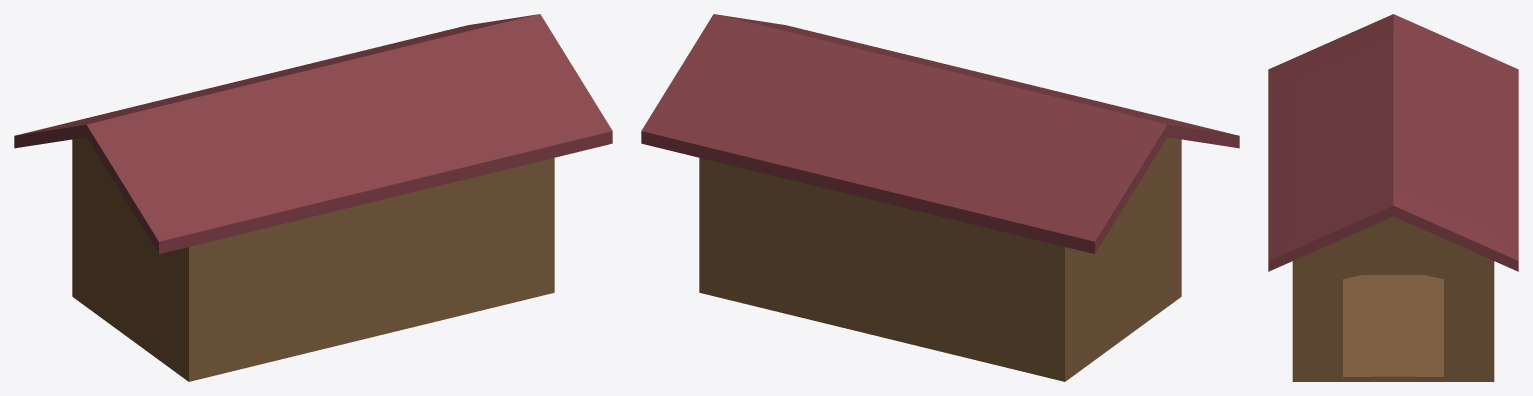
File: doghouse.fbx
3 views of the same model, side by side, from view 1: azimuth 30°, elevation 25°; view 2: azimuth 150°, elevation 25°; view 3: azimuth 270°, elevation 25° (orthographic). The views are drawn at different scales.
Visible parts, largest first — view 1: Dog House; view 2: Dog House; view 3: Dog House.
Part boxes in pixels (x1=…): Dog House: x1=14, y1=14, x2=612, y2=381; Dog House: x1=641, y1=14, x2=1239, y2=381; Dog House: x1=1268, y1=14, x2=1518, y2=381.
Size of the model in its own units: 225 by 107 by 124.
